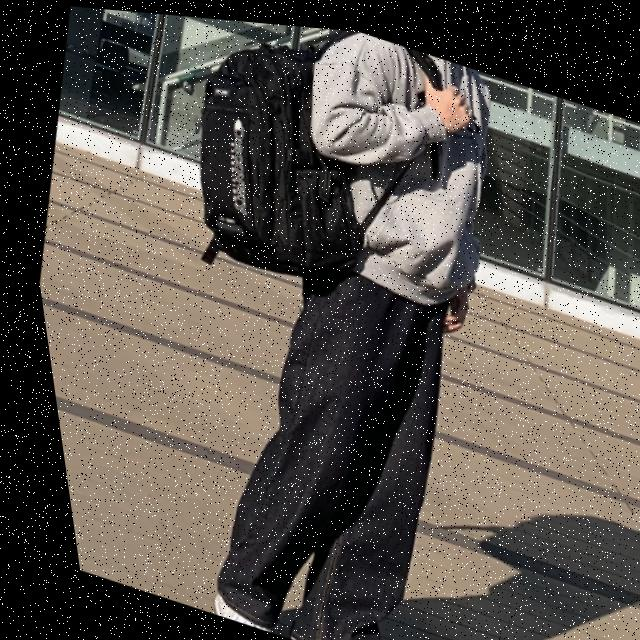backpack: (126, 9, 477, 314)
